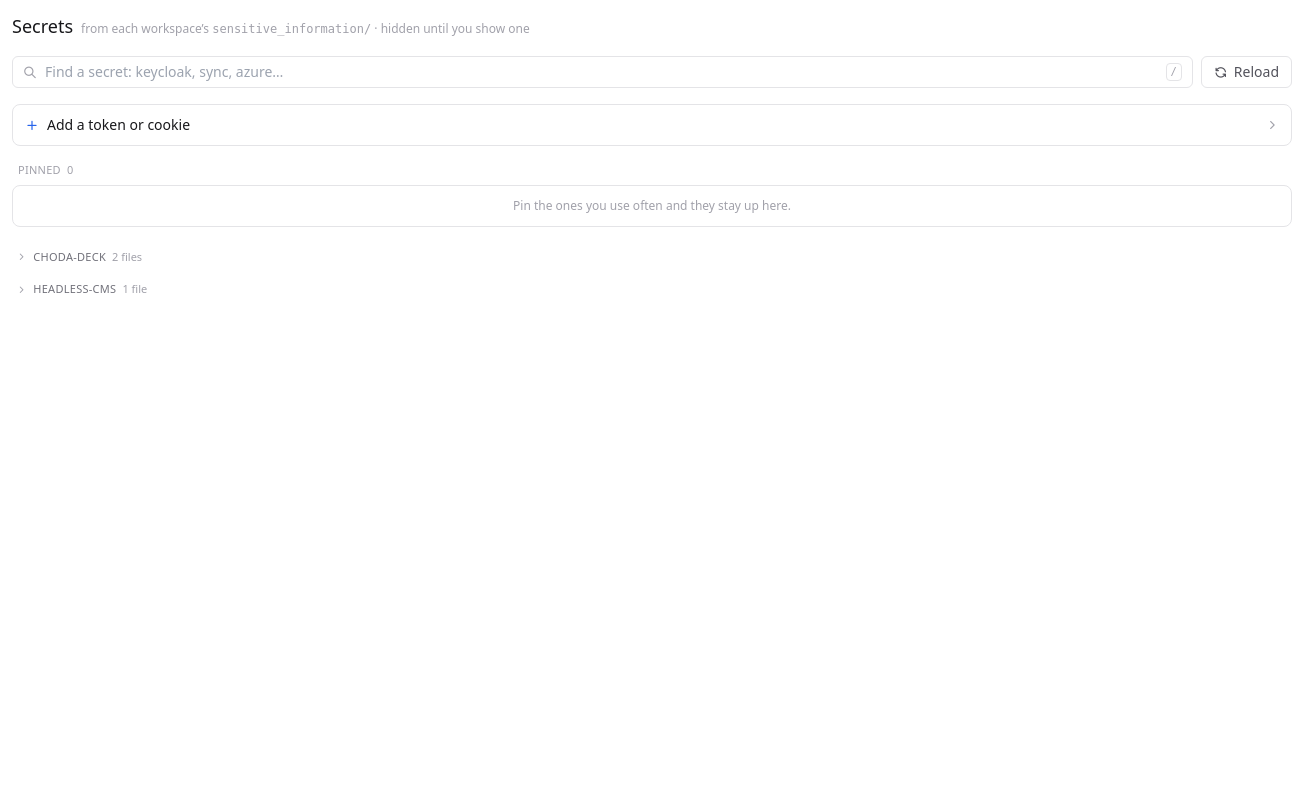
SecretsView › shows the new row after a save, without re-listing the files
The image size is (1304, 812).
Expected: the element named "choda-deck secrets" is shown, [12,242,1292,271]
Click the button "Add a token or cookie" at (119, 124), box [13,105,1291,145]
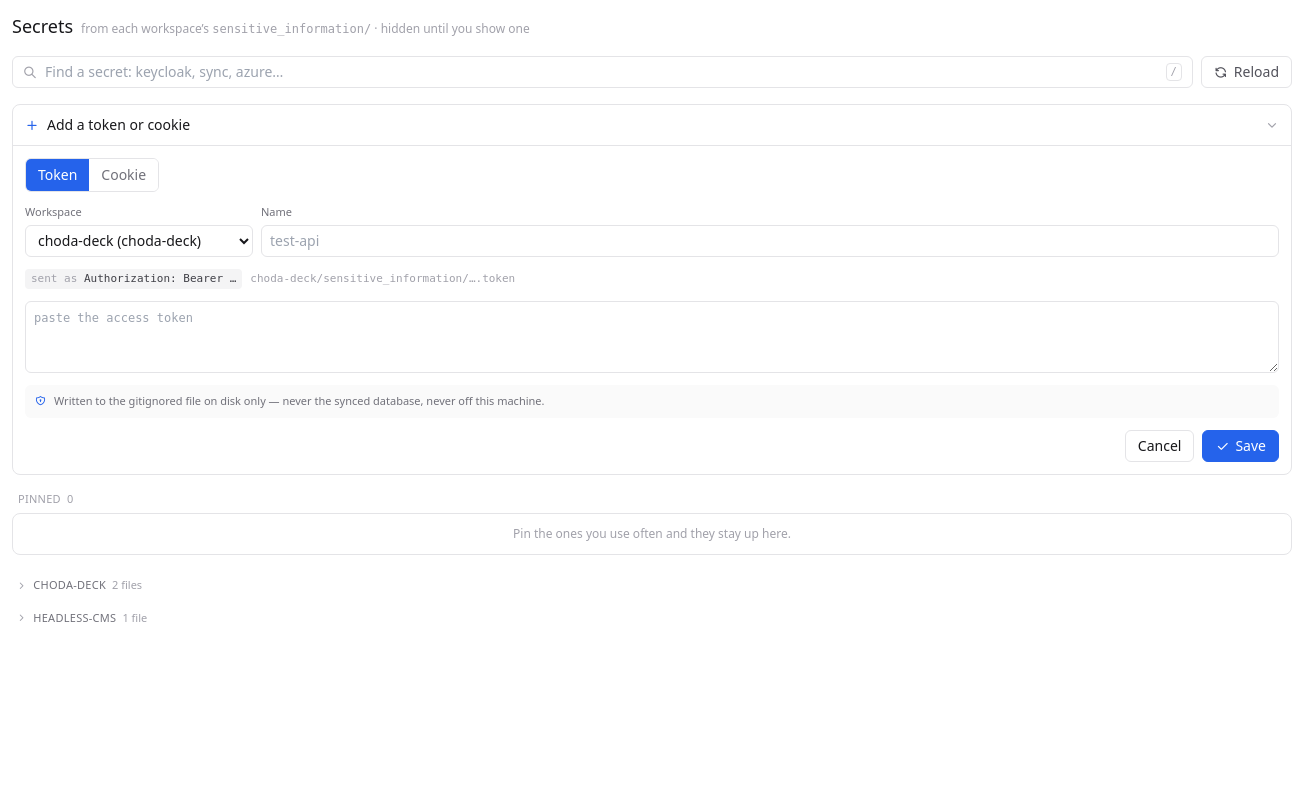
Type "new-api" into the field labelled "Name" at (770, 240), box [261,224,1279,256]
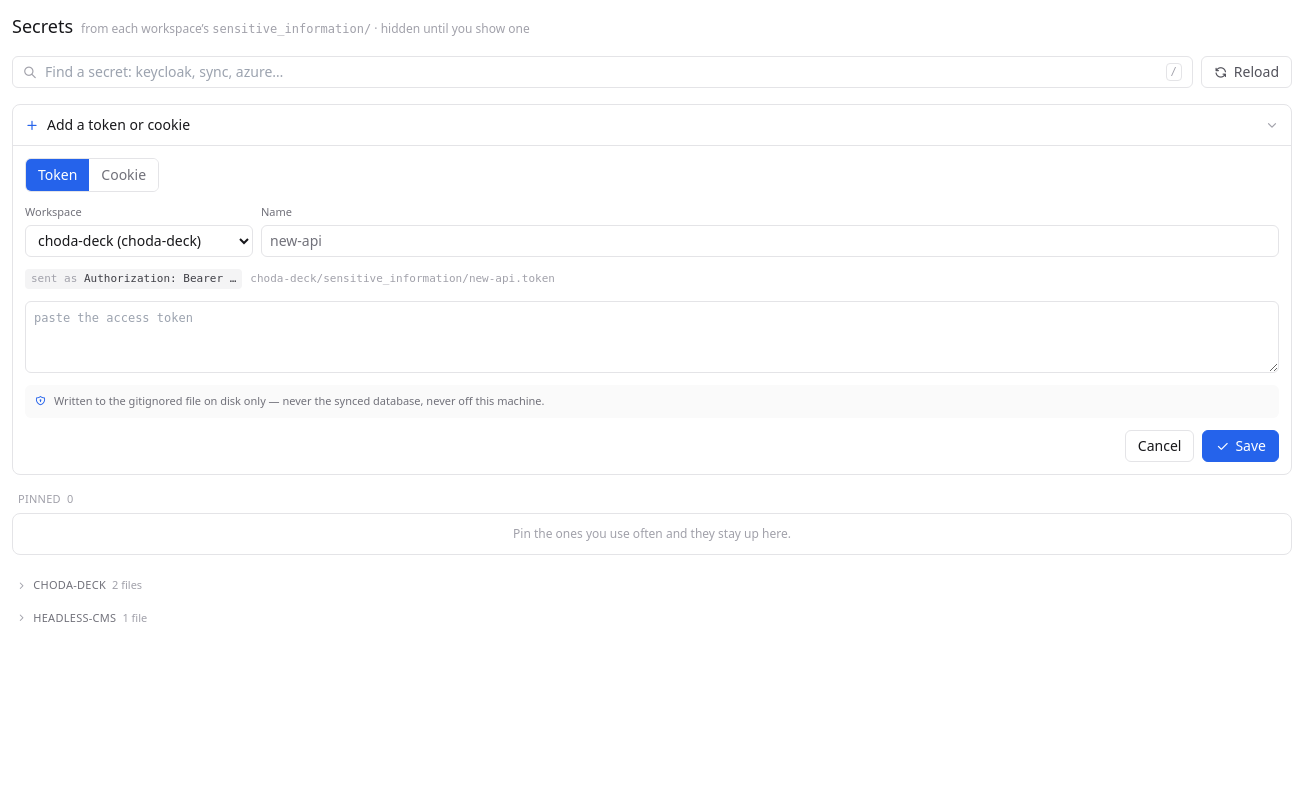
Type "abc" into the text box named "Value" at (652, 337), box [25,301,1279,373]
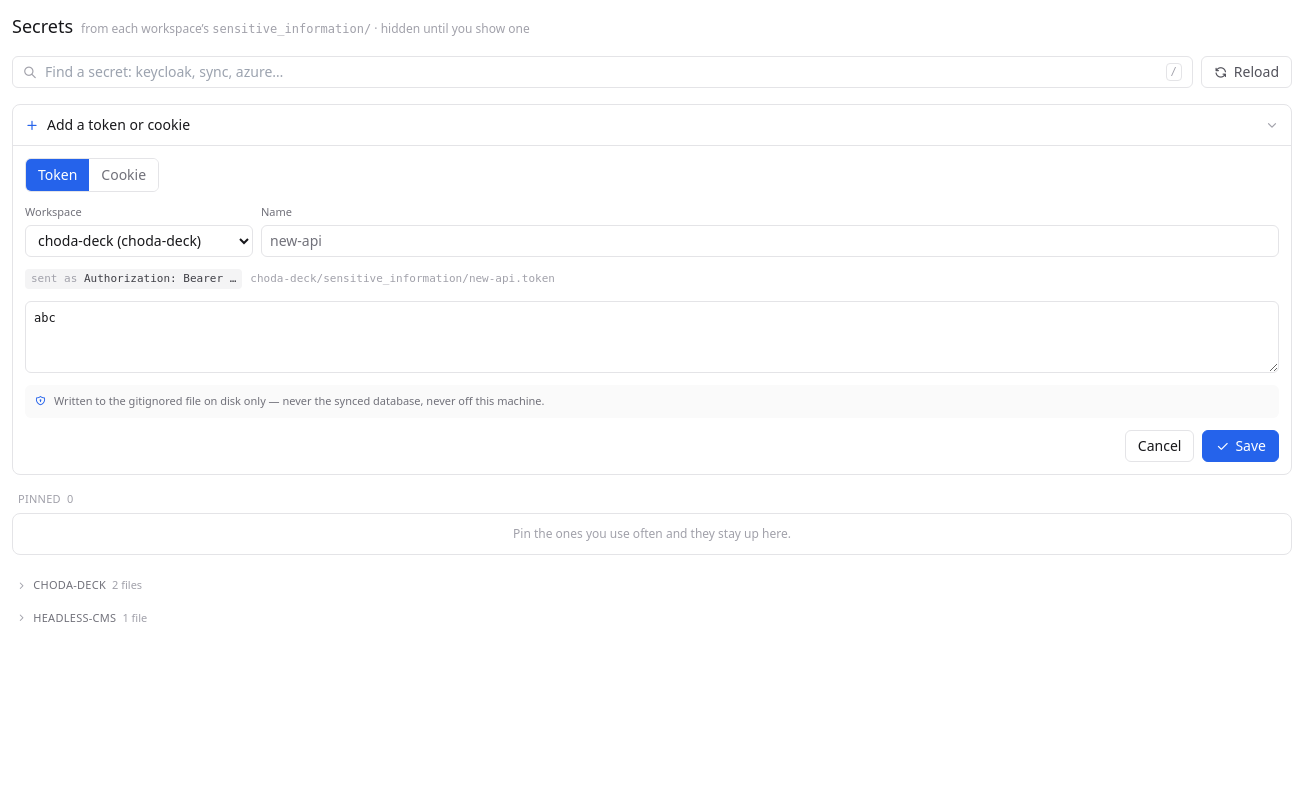
Click the button "Save" at (1241, 446), box [1202,430,1279,462]
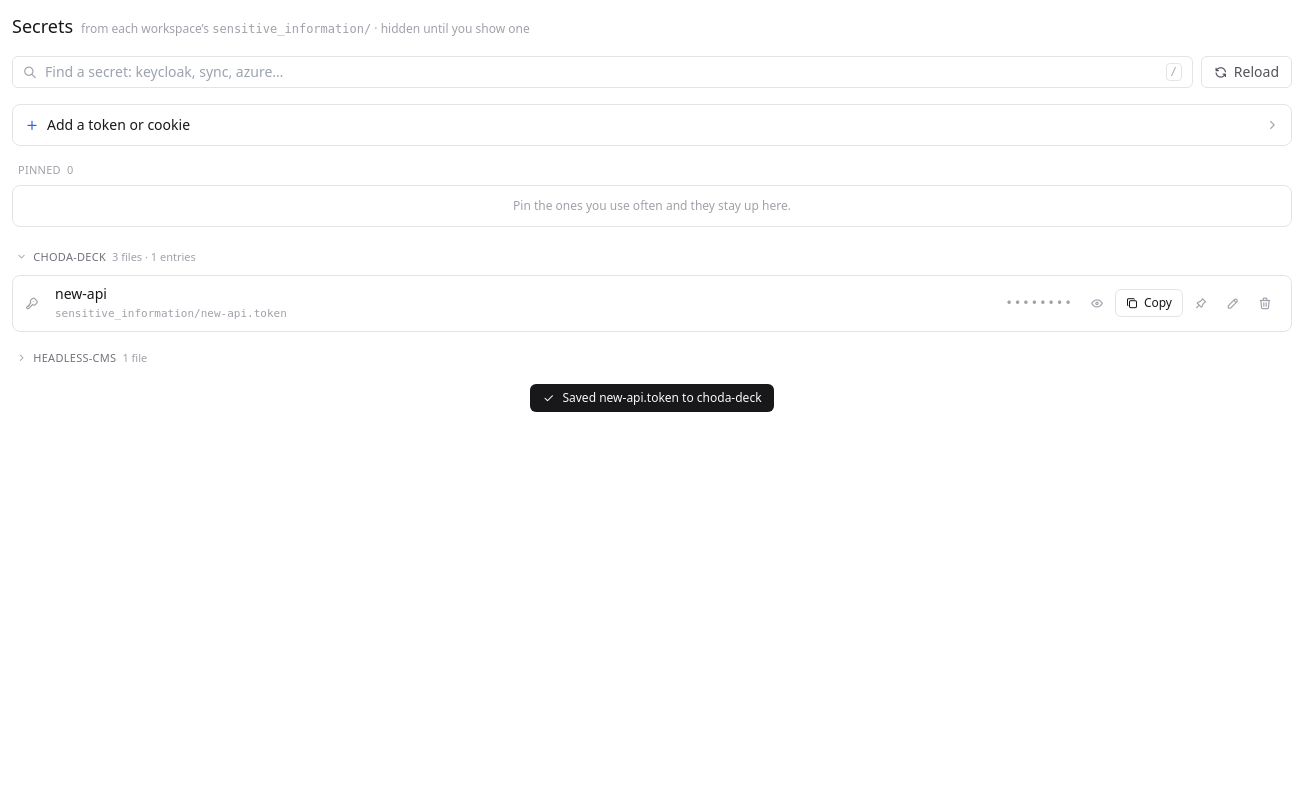
Now the text "new-api" is shown, box [55,284,107,303]
